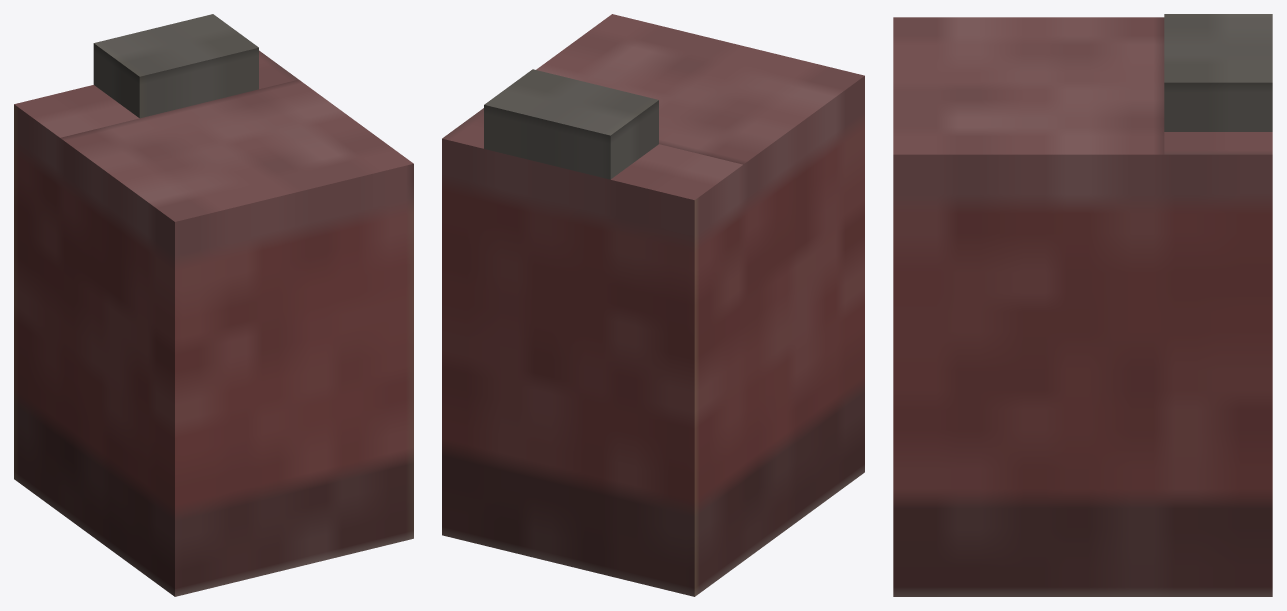
The model's file is Oilred.fbx.
3 renders of one model, left to right at view 1: azimuth 30°, elevation 25°; view 2: azimuth 150°, elevation 25°; view 3: azimuth 270°, elevation 25°, orthographic. The views are drawn at different scales.
Parts seen in each view (by area): view 1: Oilred; view 2: Oilred; view 3: Oilred.
Part boxes in pixels (box(x1,y1,x2,y2)): Oilred: box(14, 14, 413, 596); Oilred: box(442, 14, 864, 596); Oilred: box(893, 14, 1272, 596).
Bounding box in the file's own units: 6 × 10 × 7.
